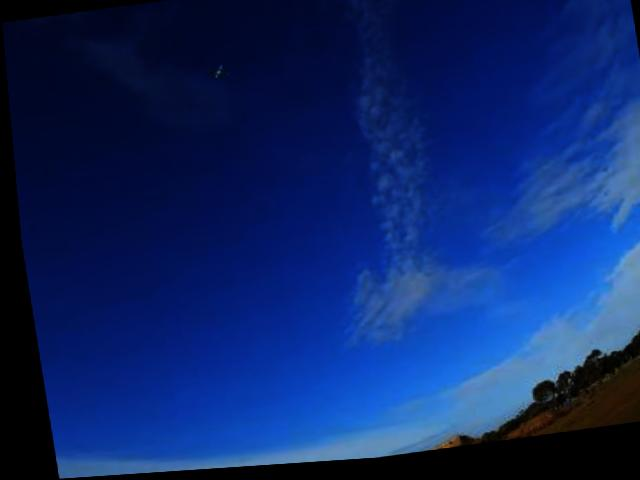uav: (196, 54, 235, 92)
